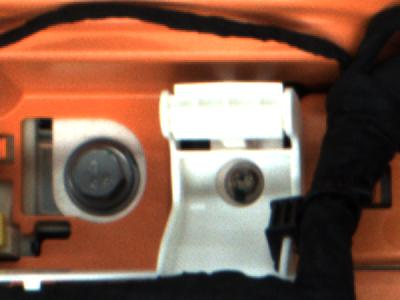nut_b: (65, 140, 143, 218)
